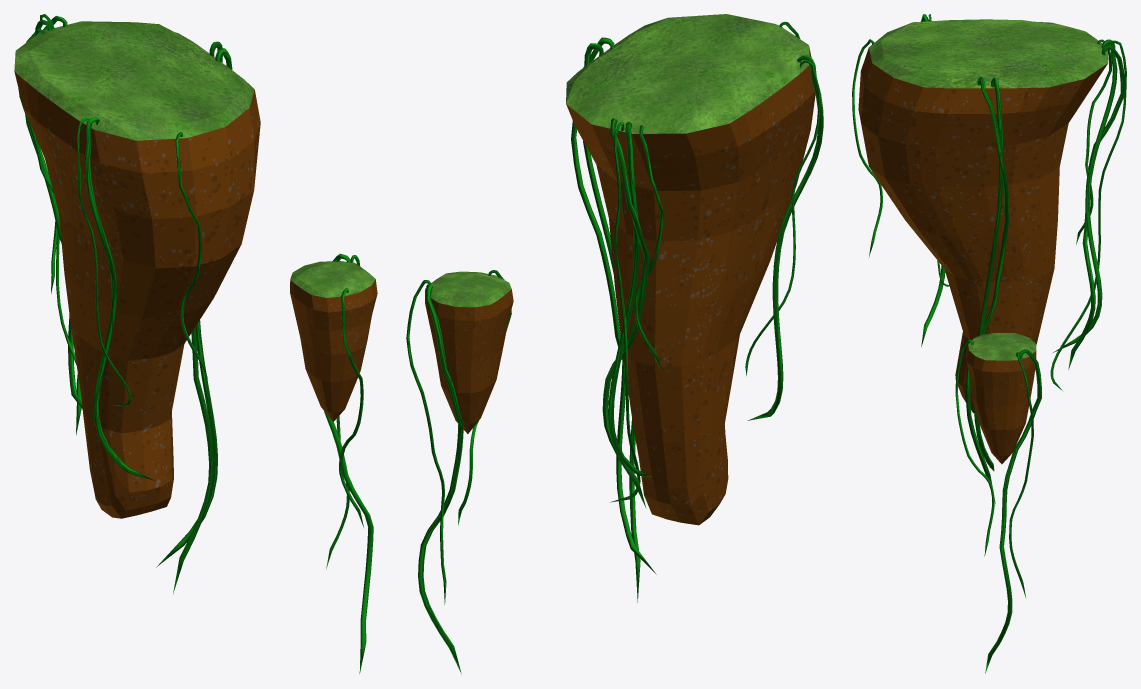
File: Vine Islands.fbx
3 views of the same model, side by side, from view 1: azimuth 30°, elevation 25°; view 2: azimuth 150°, elevation 25°; view 3: azimuth 270°, elevation 25° (orthographic). The views are drawn at different scales.
Parts seen in each view (by area): view 1: Long island, Long island Mini, Vine 6, Vine 8, Vine 2.001, Vine 9, Vine 7, Vine 5, Vine 7.001, Vine 2, Vine 3, Vine; view 2: Long island, Long island Mini, Vine 2.001, Vine 8, Vine 6, Vine, Vine 2, Vine 9, Vine 4, Vine 8.001, Vine 5, Vine 3; view 3: Long island, Long island Mini, Vine 8, Vine 2.001, Vine, Vine 9, Vine 2, Vine 4, Vine 8.001, Vine 7.001, Vine 7, Vine 3.
Boxes of the visible parts, bbox=[...] form: Long island: bbox=[14, 21, 260, 518]; Long island Mini: bbox=[290, 261, 377, 421]; Vine 6: bbox=[84, 116, 155, 480]; Vine 8: bbox=[173, 48, 232, 593]; Vine 2.001: bbox=[324, 253, 373, 673]; Vine 9: bbox=[156, 41, 222, 567]; Vine 7: bbox=[175, 132, 207, 379]; Vine 5: bbox=[77, 118, 131, 406]; Vine 7.001: bbox=[339, 288, 363, 527]; Vine 2: bbox=[25, 16, 81, 435]; Vine 3: bbox=[18, 29, 57, 293]; Vine: bbox=[35, 19, 82, 408]; Long island: bbox=[566, 14, 815, 525]; Long island Mini: bbox=[425, 271, 513, 433]; Vine 2.001: bbox=[418, 284, 463, 674]; Vine 8: bbox=[571, 37, 640, 602]; Vine 6: bbox=[747, 55, 823, 420]; Vine: bbox=[608, 122, 651, 476]; Vine 2: bbox=[602, 118, 649, 508]; Vine 9: bbox=[583, 43, 656, 574]; Vine 4: bbox=[609, 122, 640, 502]; Vine 8.001: bbox=[406, 280, 446, 604]; Vine 5: bbox=[745, 60, 820, 375]; Vine 3: bbox=[634, 125, 663, 371]; Long island: bbox=[858, 19, 1108, 413]; Long island Mini: bbox=[965, 333, 1036, 464]; Vine 8: bbox=[966, 77, 1008, 503]; Vine 2.001: bbox=[985, 349, 1041, 673]; Vine: bbox=[1053, 39, 1117, 352]; Vine 9: bbox=[973, 78, 1003, 471]; Vine 2: bbox=[1068, 45, 1124, 369]; Vine 4: bbox=[1050, 40, 1126, 390]; Vine 8.001: bbox=[1009, 352, 1033, 598]; Vine 7.001: bbox=[955, 339, 994, 556]; Vine 7: bbox=[852, 39, 882, 256]; Vine 3: bbox=[1076, 39, 1111, 244].
Bounding box in the file's own units: 1432 × 2622 × 1206.
